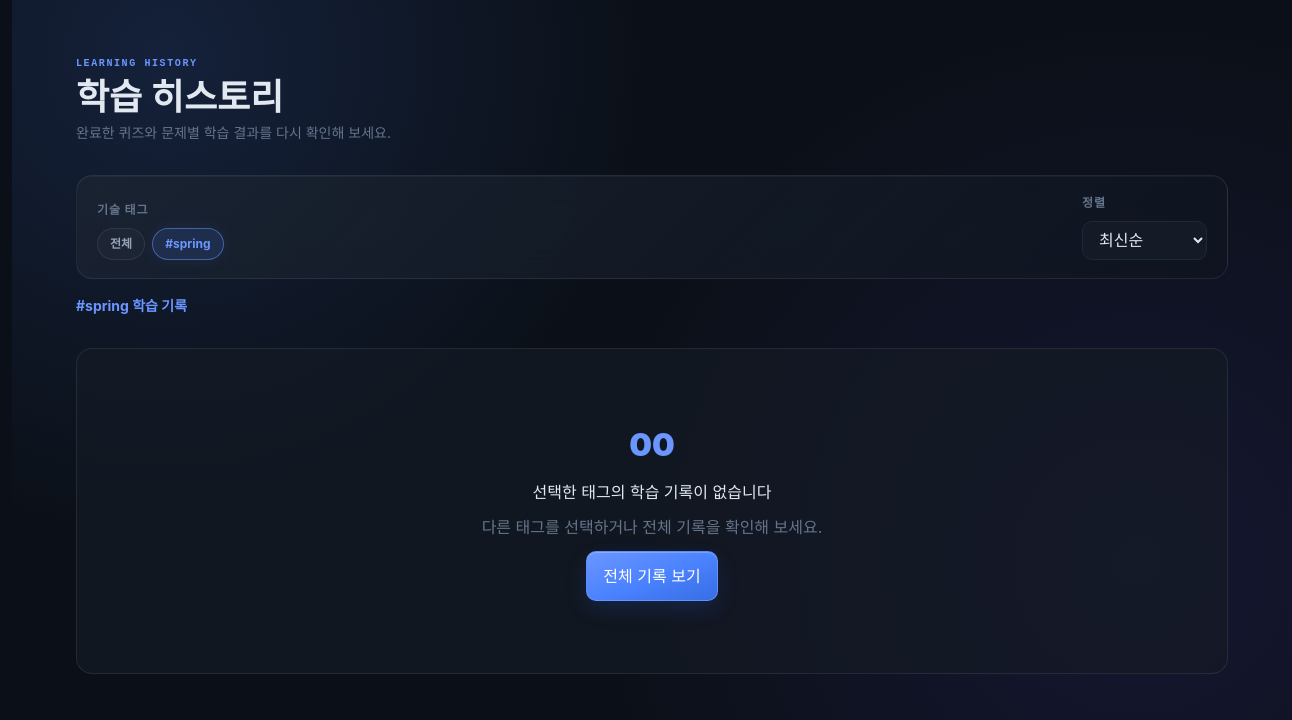
HistoryPage › 선택한 태그의 기록이 없으면 전체 기록으로 돌아갈 수 있다
Expected: the heading "선택한 태그의 학습 기록이 없습니다" is shown, [533,480,771,504]
Click the button "전체 기록 보기". click: x=652, y=576
box: [586,550,718,600]
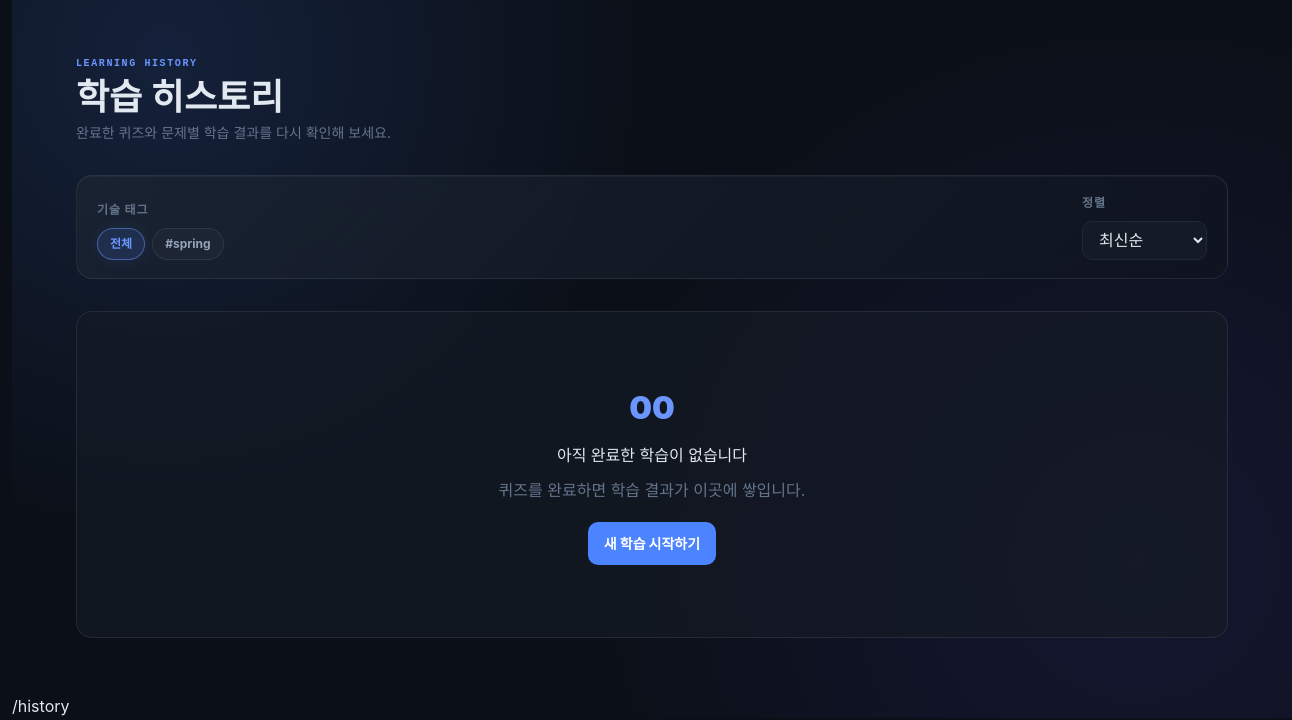
Expected: the text named "현재 주소" reads "/history", [12,696,70,716]
